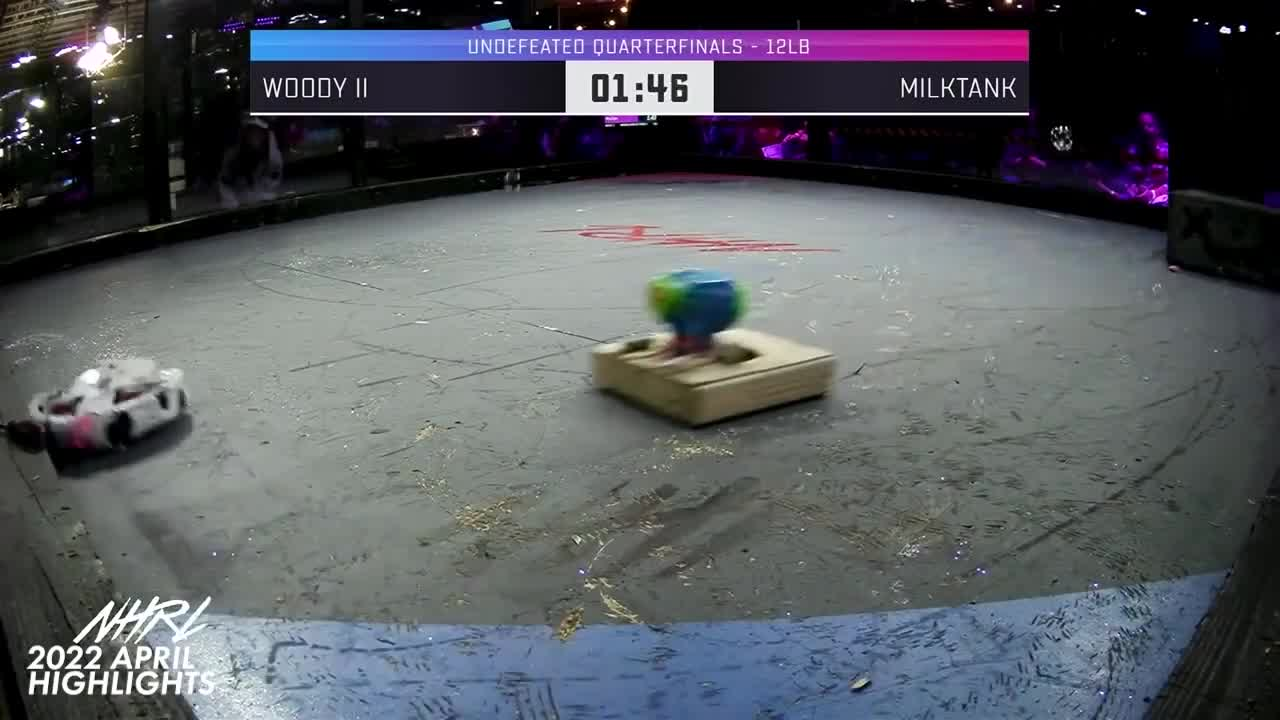combatbot: (590, 269, 835, 425), (3, 360, 192, 455)
housebot: (1165, 189, 1280, 292)
